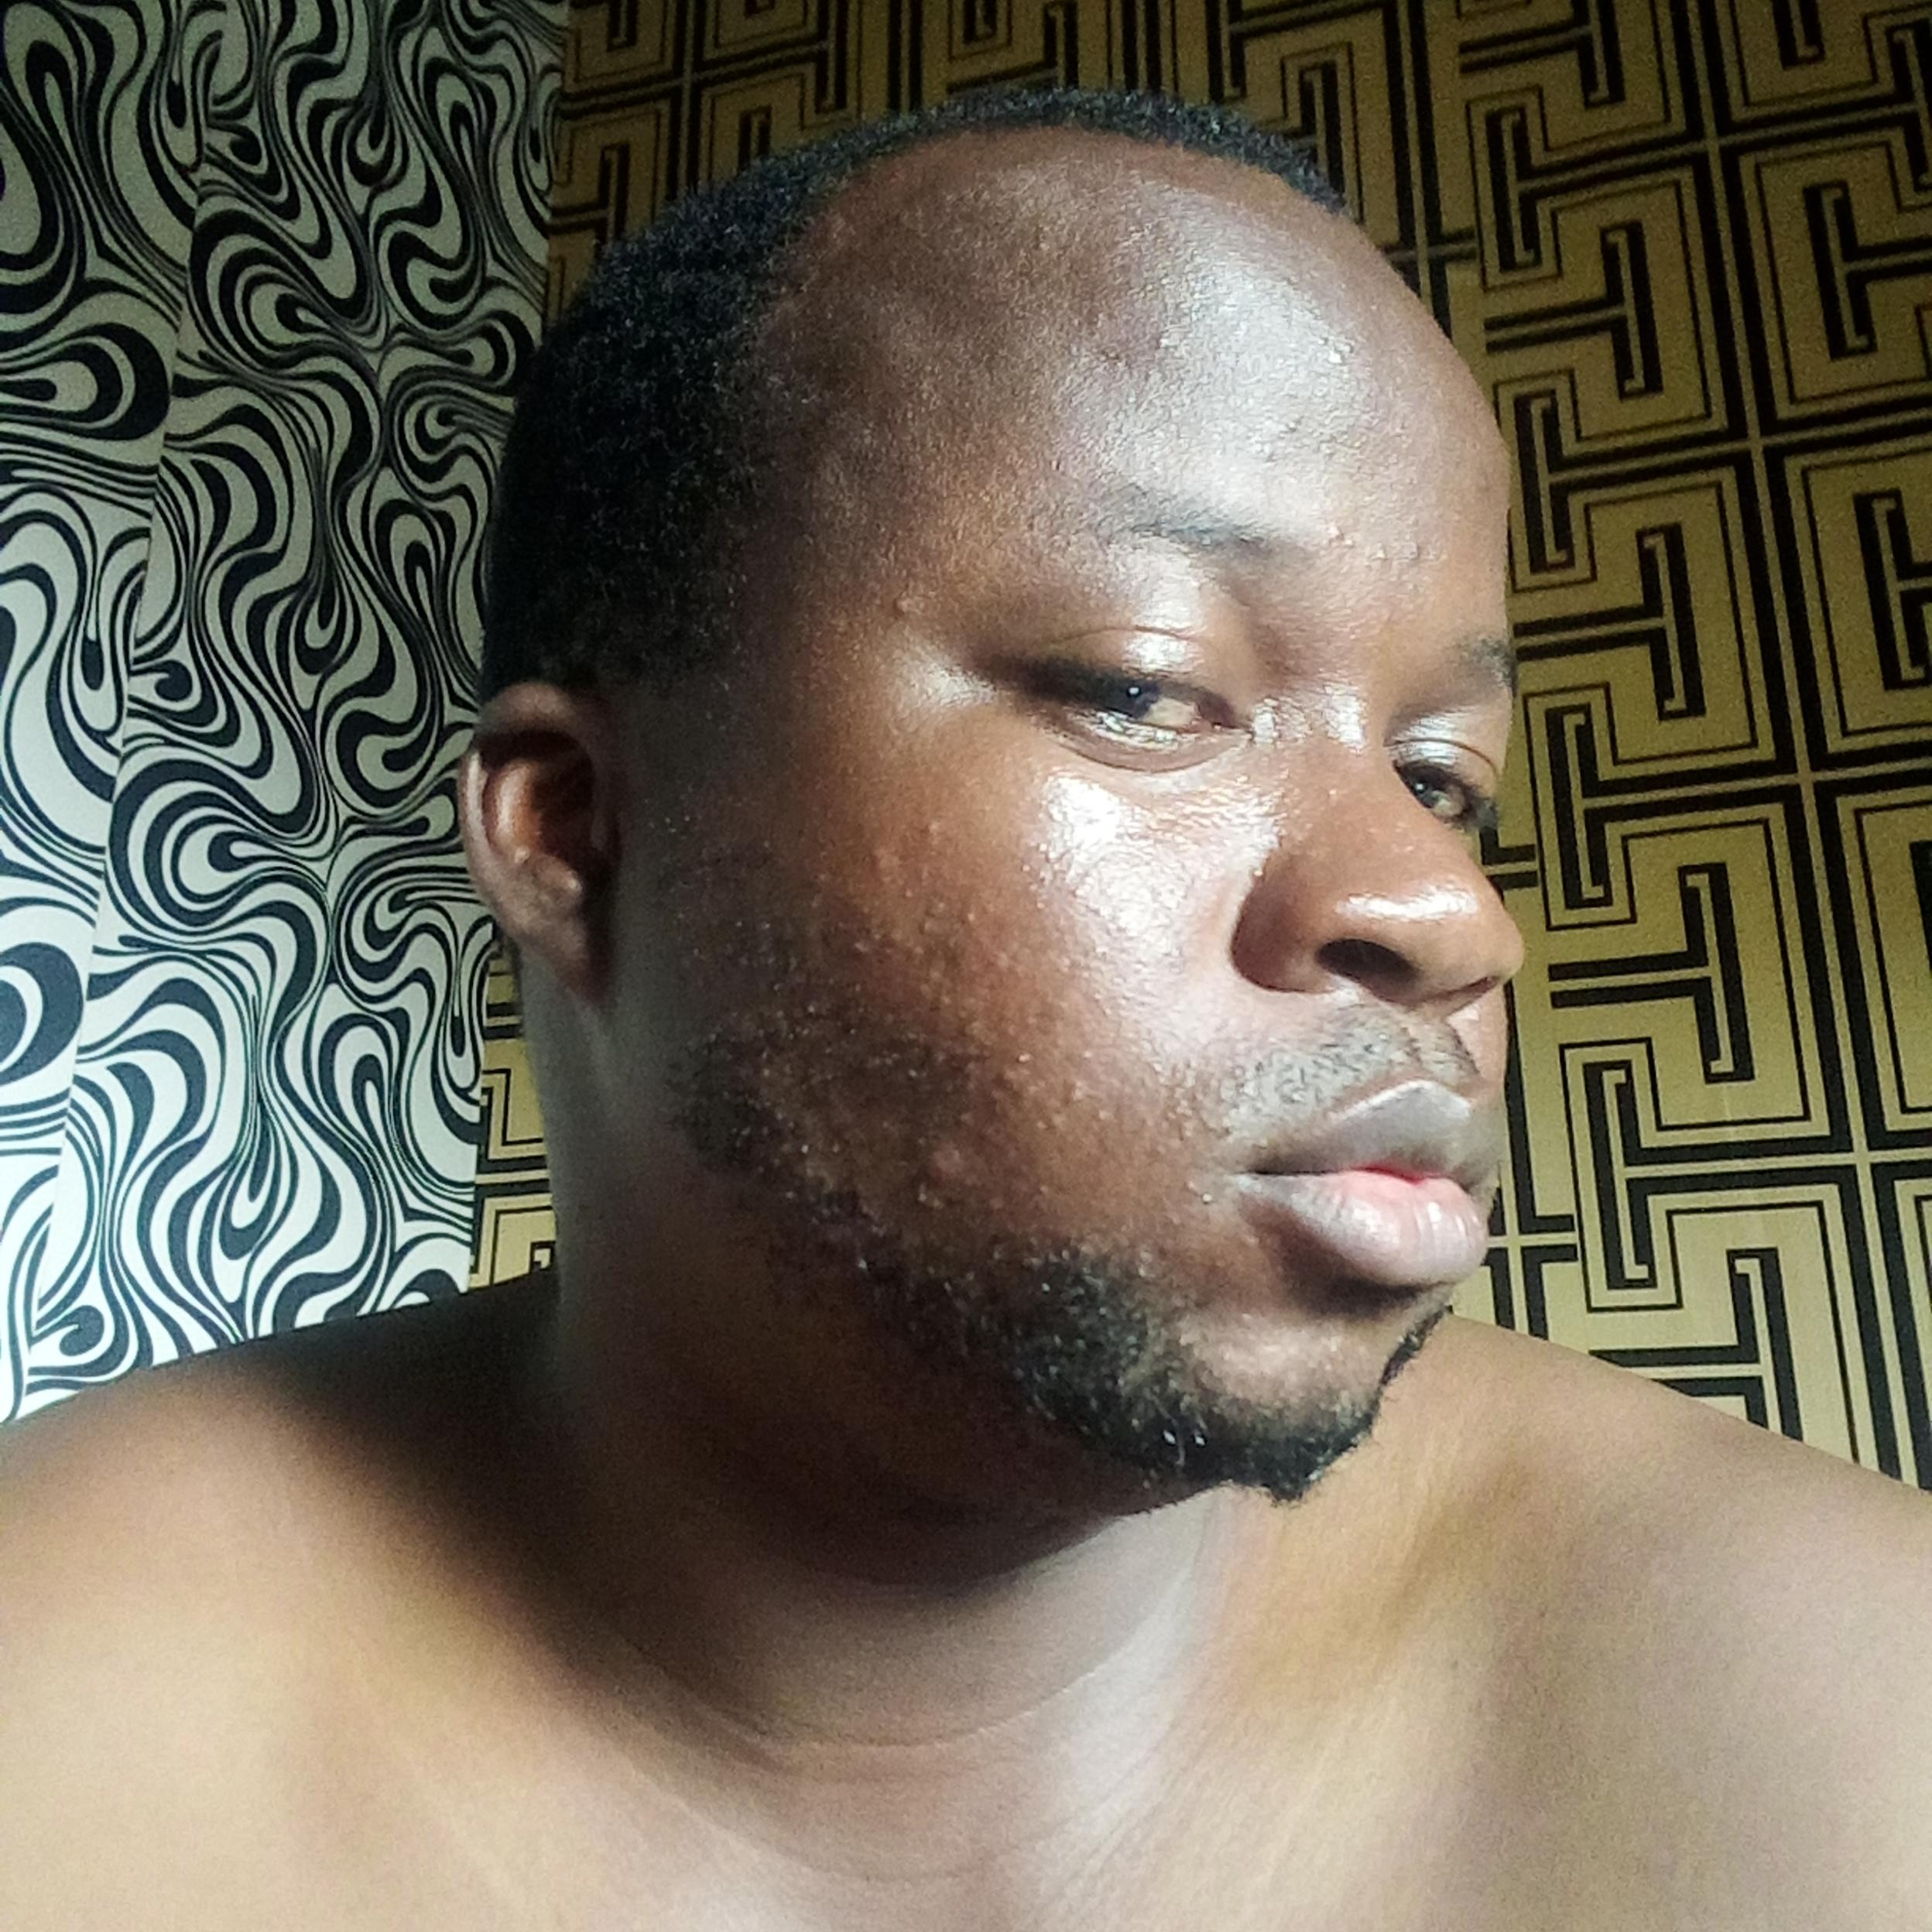Acne: (913, 1046, 1127, 1132), (839, 814, 954, 961), (904, 952, 1049, 1049), (1311, 510, 1431, 579), (1254, 407, 1366, 467), (901, 1132, 978, 1214), (1008, 832, 1079, 920), (1311, 327, 1361, 373), (879, 586, 922, 628), (1154, 327, 1177, 363)
